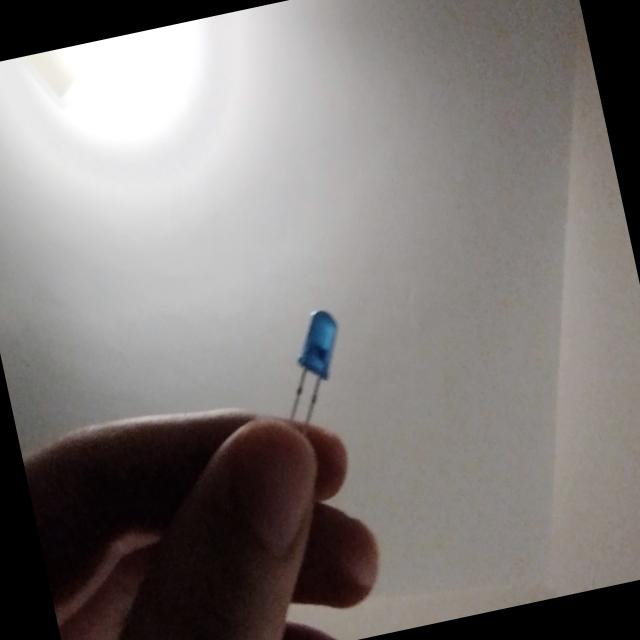blue_led: (262, 284, 366, 442)
